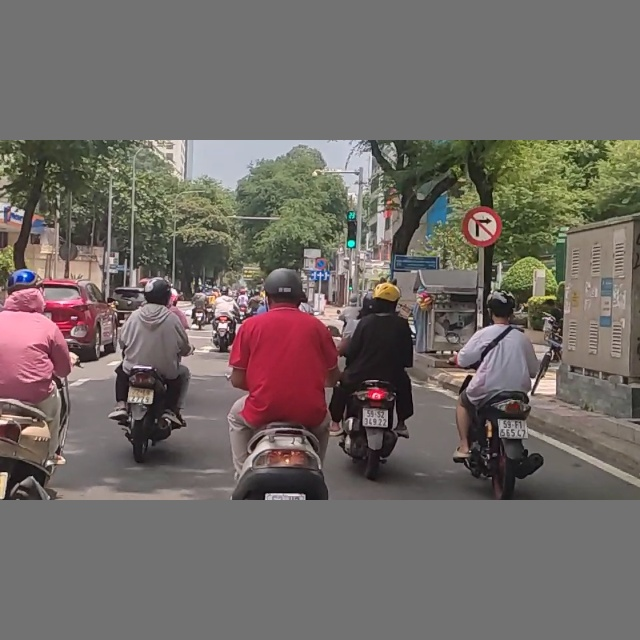P.123b: (463, 209, 499, 246)
P.131a: (315, 257, 327, 271)
